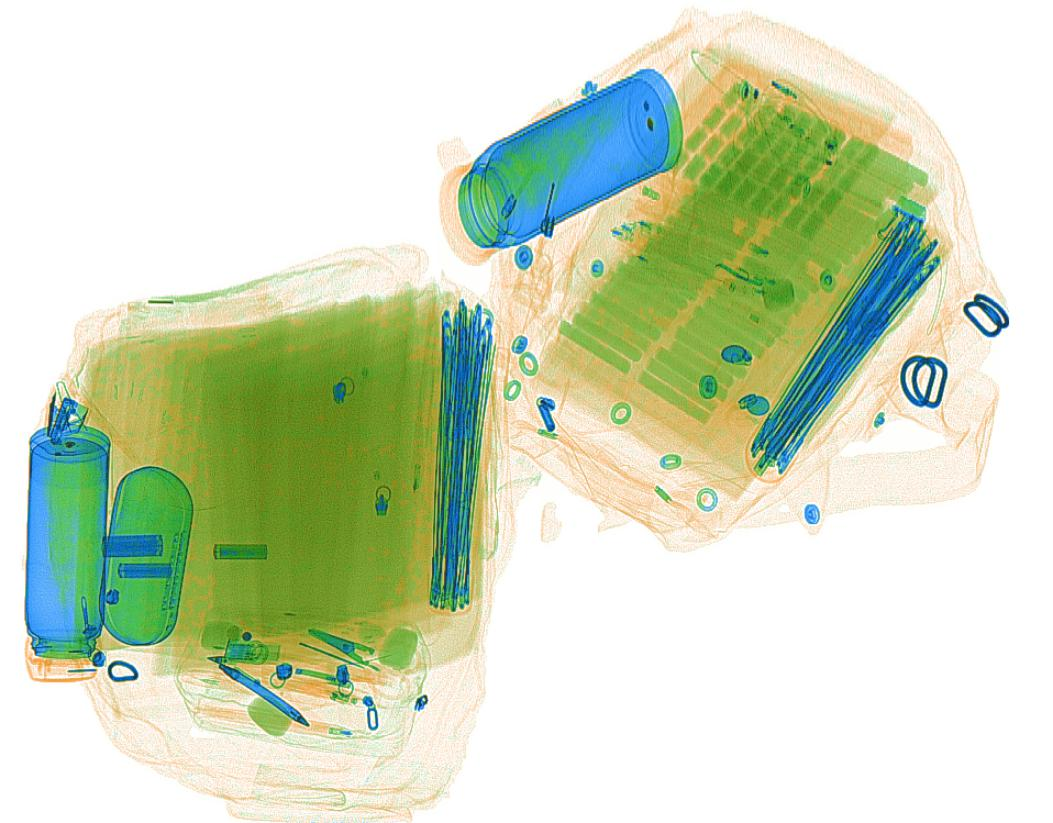USBFlashDisk: (223, 637, 282, 664)
battery: (97, 533, 163, 560), (210, 541, 266, 562), (117, 561, 173, 579)
scissors: (306, 624, 423, 702)
